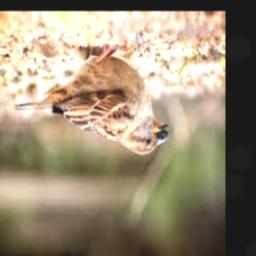Sparrow: (13, 44, 168, 156)
